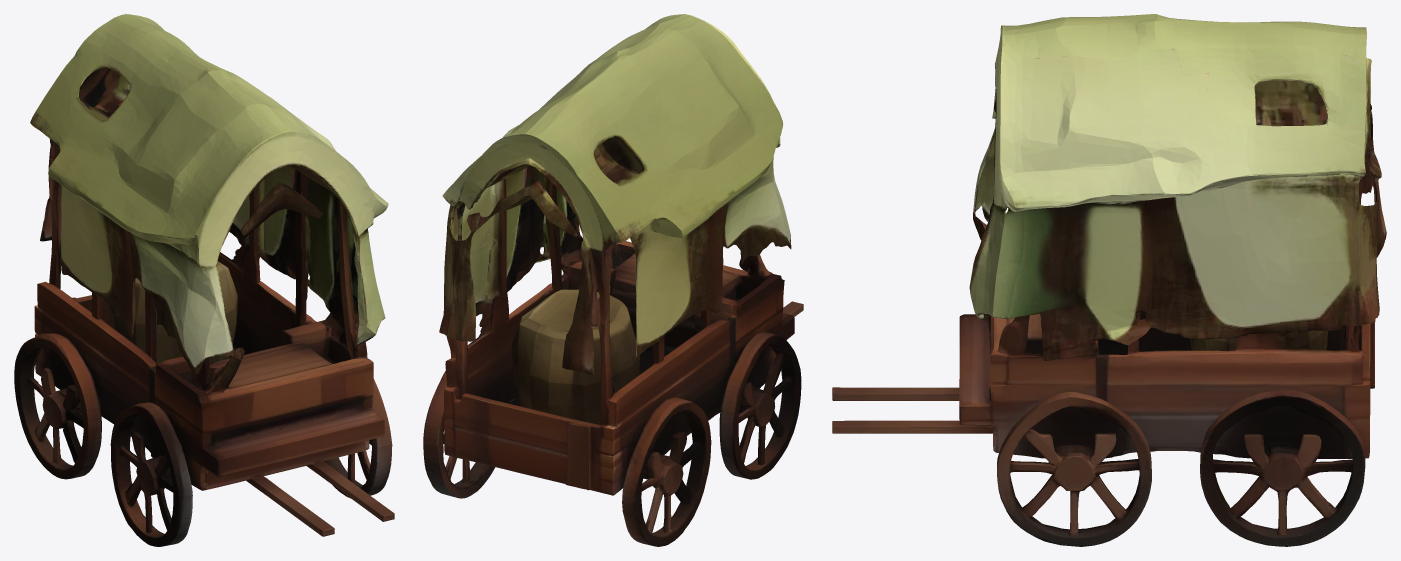
File: 3deditformer_t05.glb
3 renders of one model, left to right at view 1: azimuth 30°, elevation 25°; view 2: azimuth 150°, elevation 25°; view 3: azimuth 270°, elevation 25°, orthographic. The views are drawn at different scales.
Parts seen in each view (by area): view 1: geometry_0; view 2: geometry_0; view 3: geometry_0.
Part boxes in pixels (x1,y1,x2,y2): geometry_0: (14,14,394,546); geometry_0: (423,14,803,546); geometry_0: (832,14,1386,546).
Bounding box in the file's own units: 1.05 × 1.88 × 2.
1 material, 1 textured.
